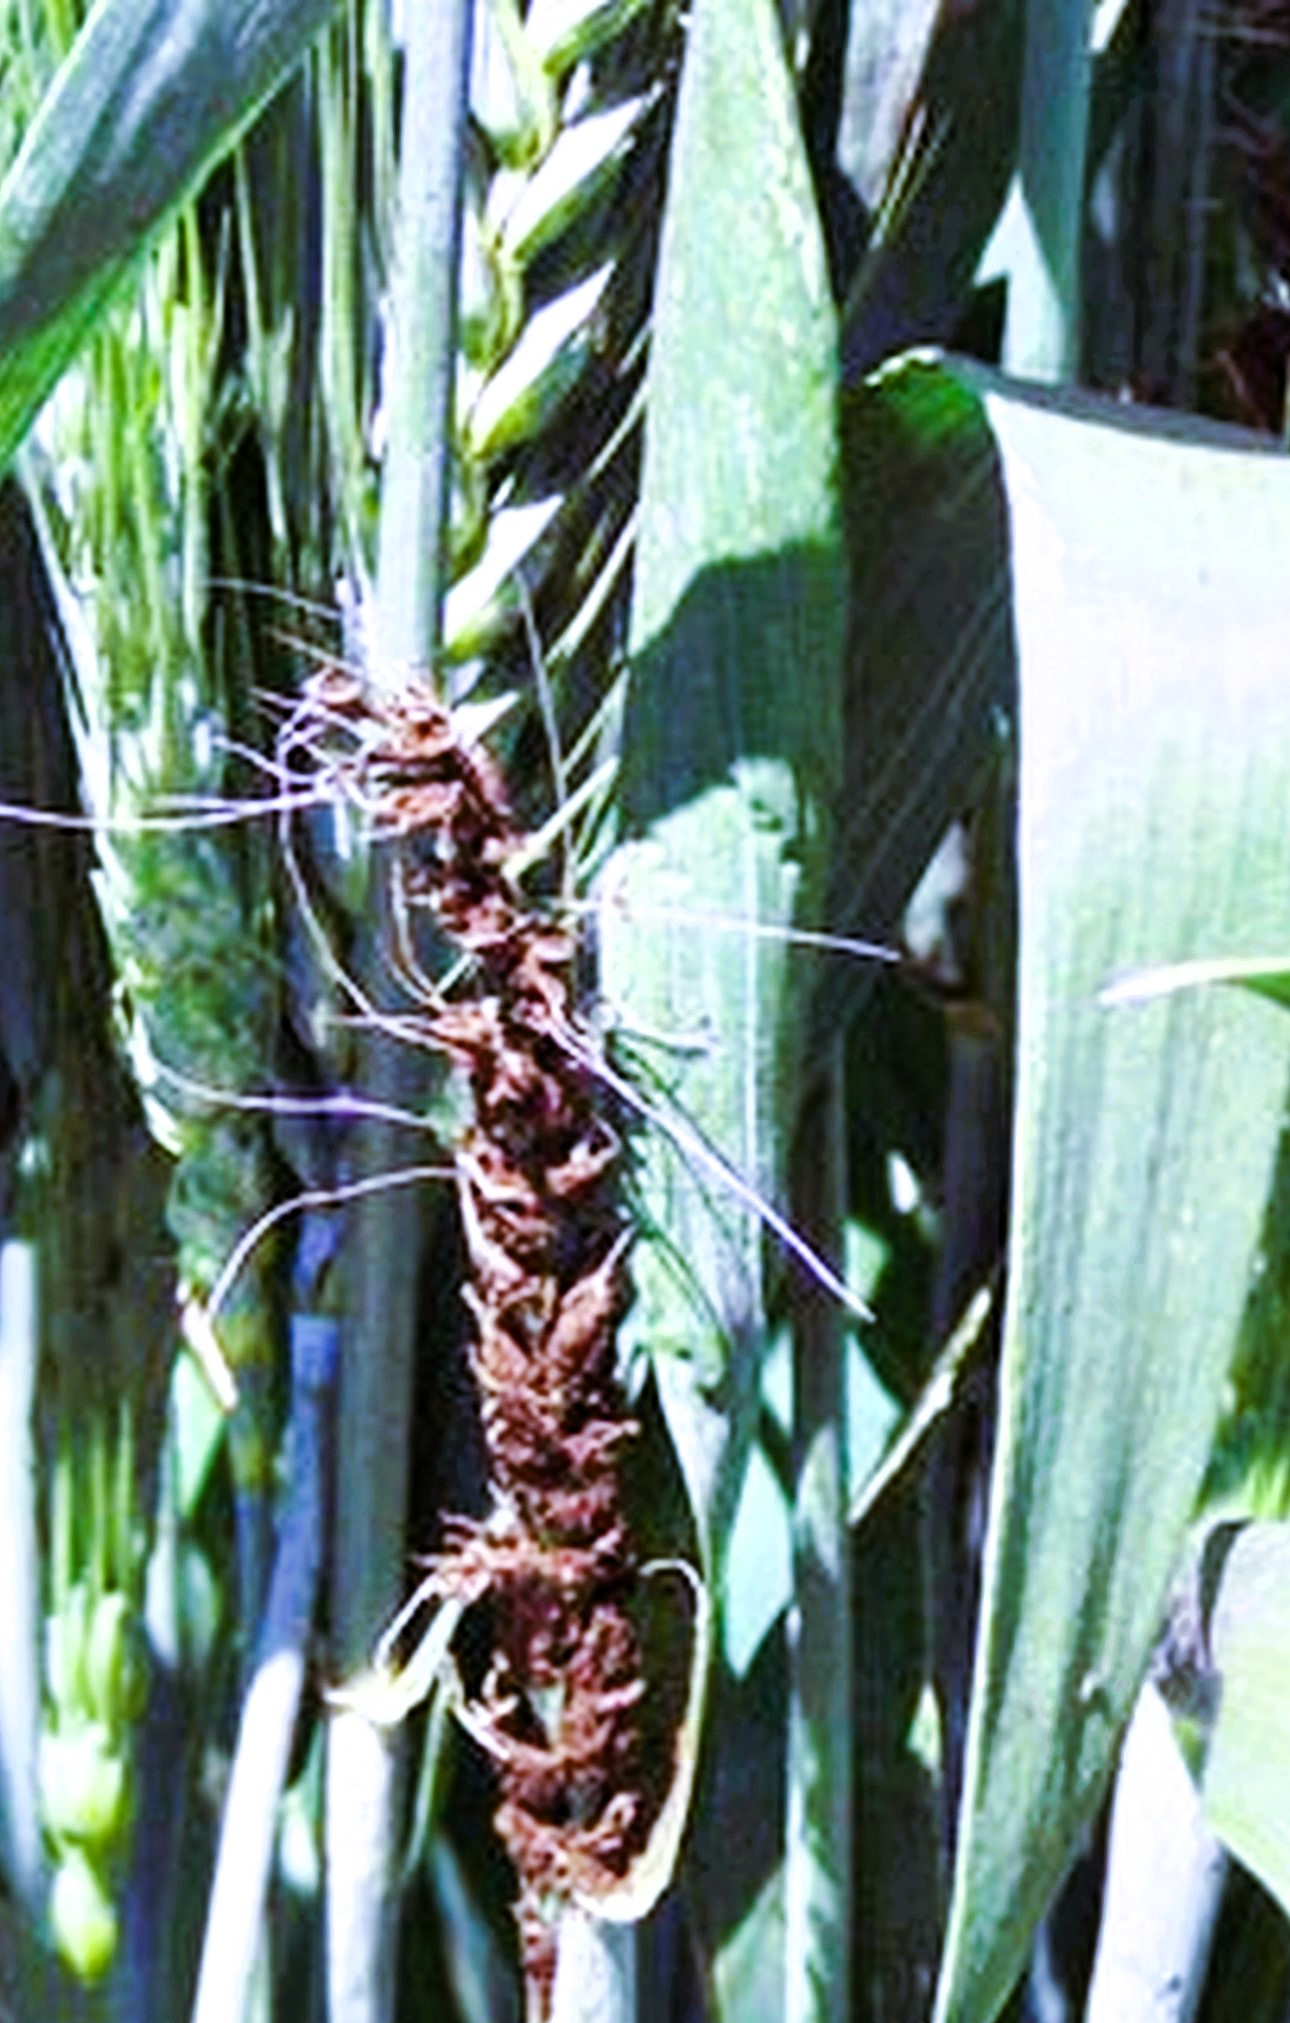Wheat Loose Smut: (254, 692, 717, 1623)
